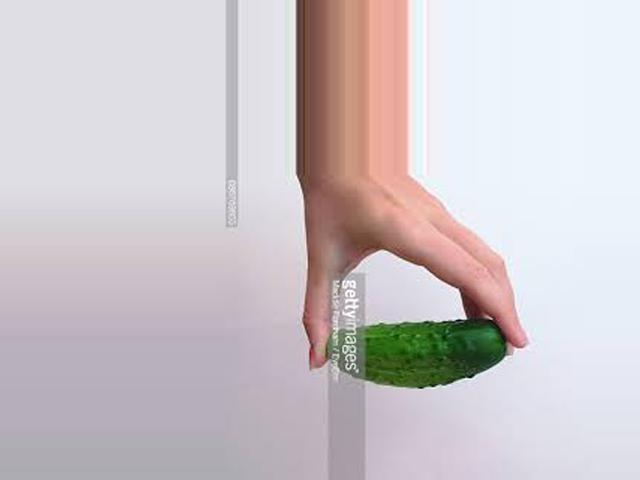cucumber: (324, 320, 506, 389)
